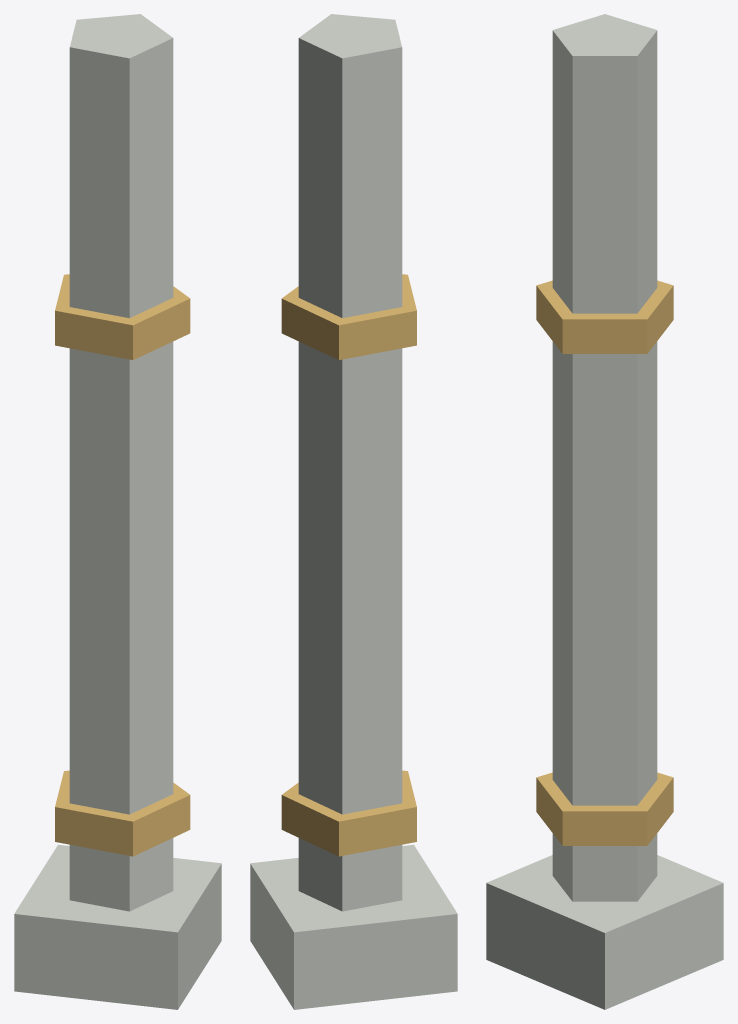
The model's file is Desert_SignPost.fbx.
3 renders of one model, left to right at view 1: azimuth 30°, elevation 25°; view 2: azimuth 150°, elevation 25°; view 3: azimuth 270°, elevation 25°, orthographic.
Parts seen in each view (by area): view 1: Desert_SignPost; view 2: Desert_SignPost; view 3: Desert_SignPost.
Boxes of the visible parts, <box> form: Desert_SignPost: <box>14,14,221,1009</box>; Desert_SignPost: <box>250,14,457,1009</box>; Desert_SignPost: <box>486,14,723,1009</box>.
Bounding box in the file's own units: 28 × 120 × 28.
